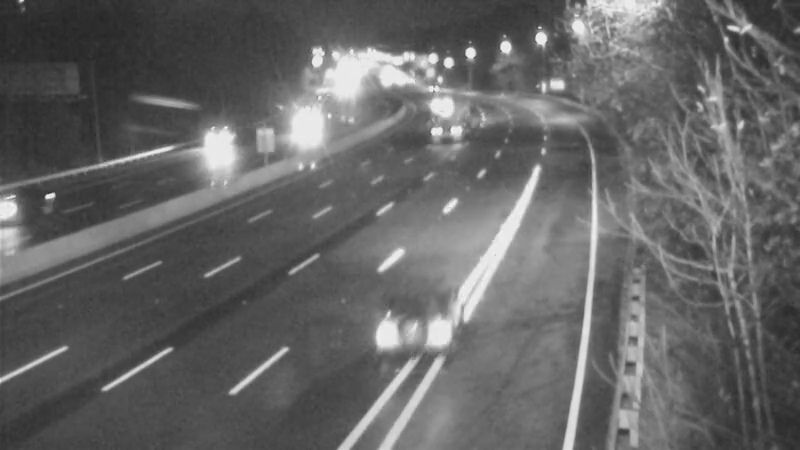vehicle: (359, 275, 469, 385), (1, 165, 68, 245), (406, 74, 456, 124), (426, 89, 476, 139), (189, 121, 239, 171), (265, 111, 315, 161)
